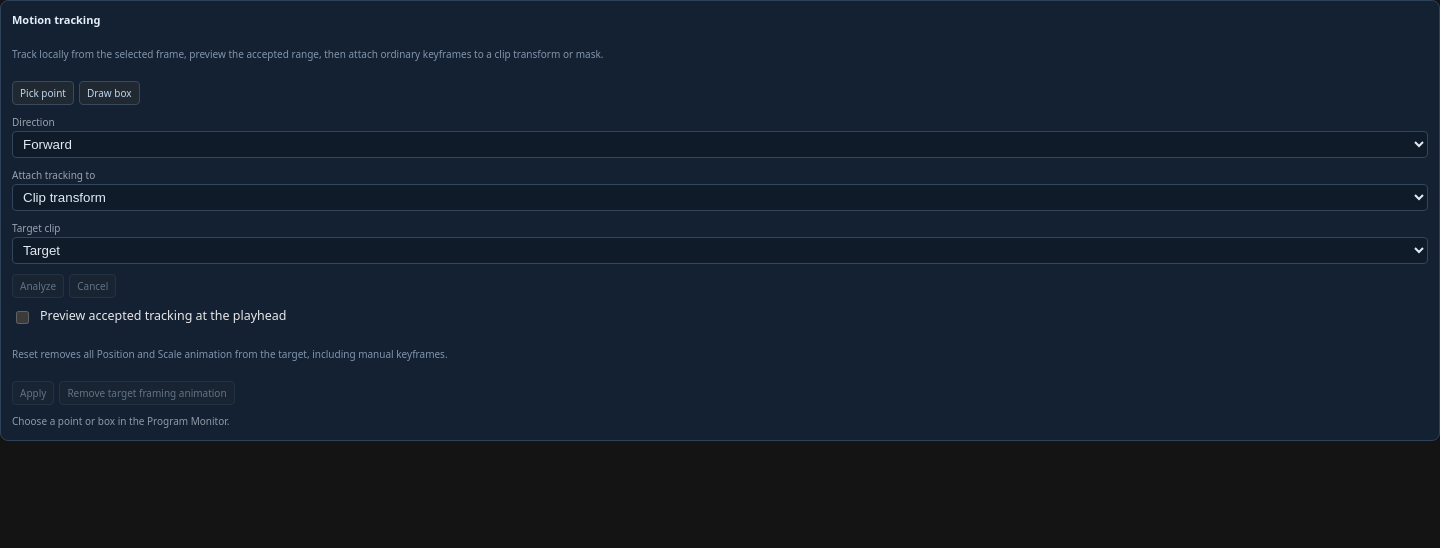
it: MotionTrackingEditor › reads progress from the active tracking kind instead of an older sibling job
The width and height of the screenshot is (1440, 548).
Click the button "Draw box" at (109, 93), box [79,81,140,105]
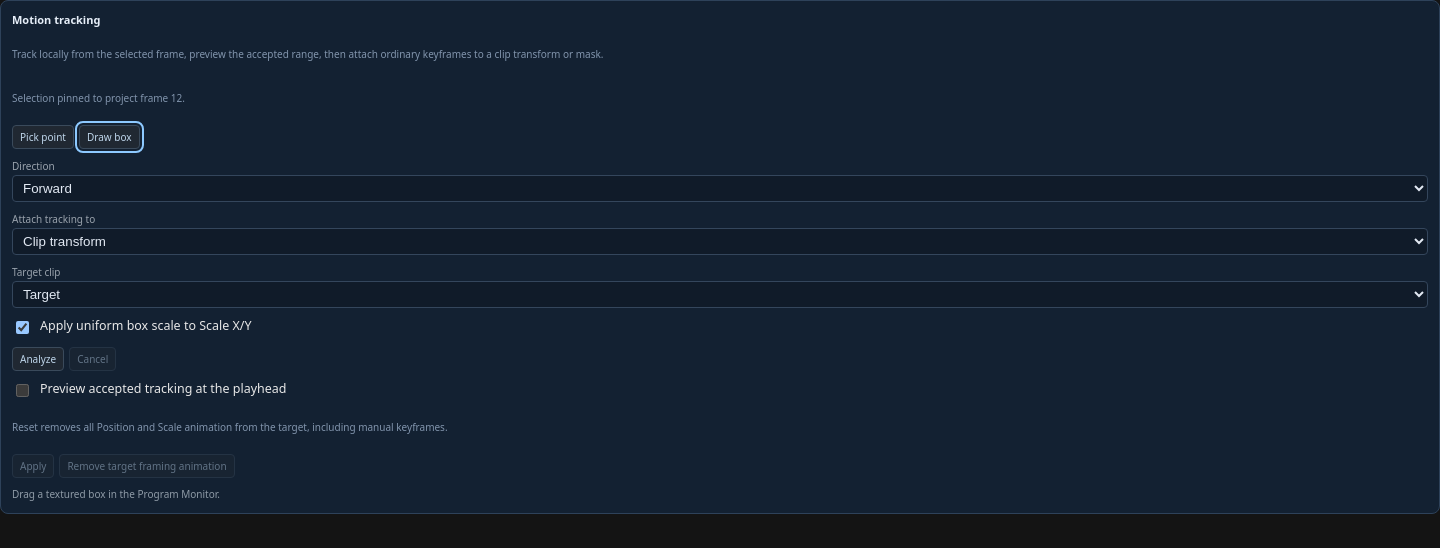
Click the button "Analyze" at (38, 359), box [12,347,64,371]
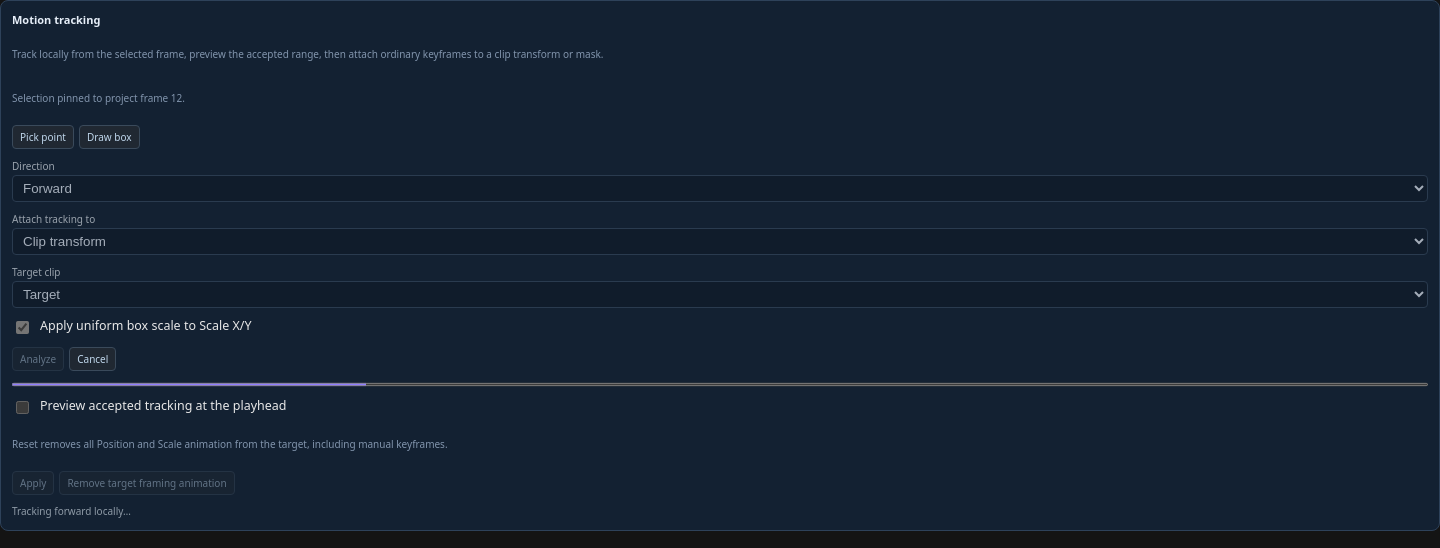
Now the progress indicator holds "0.25", box [12,381,1428,388]
